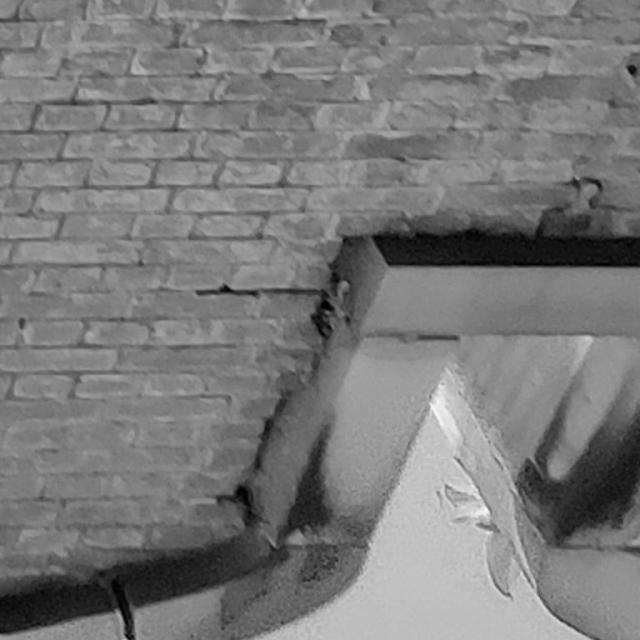crack: (194, 234, 350, 528)
